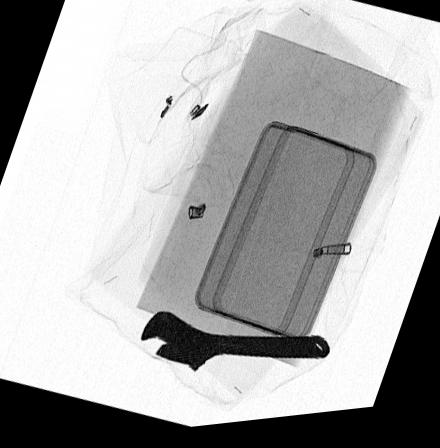Wrench: (138, 312, 334, 377)
